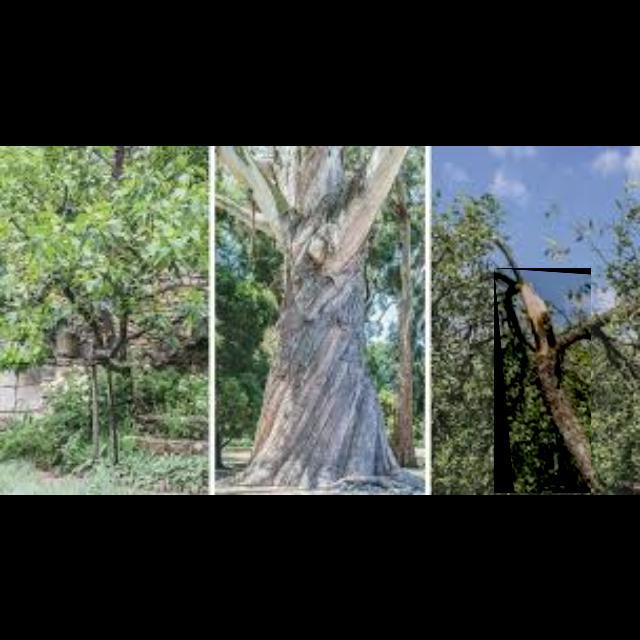fallen_tree: (494, 268, 592, 494)
